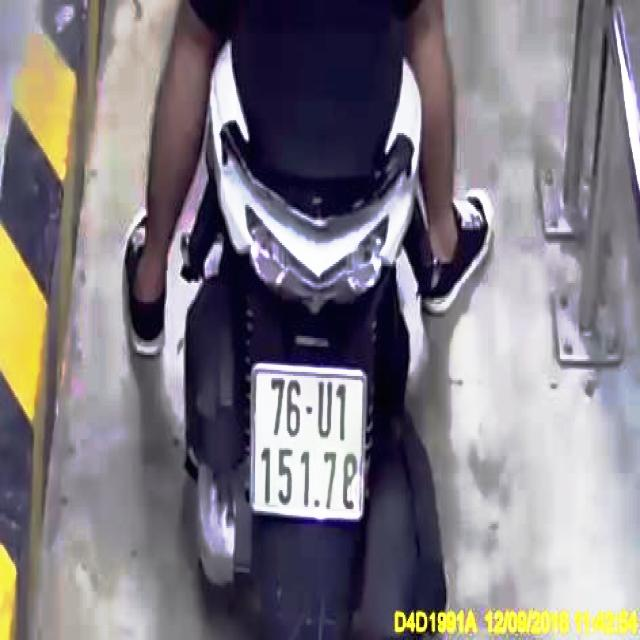license_plate: (254, 369, 366, 520)
